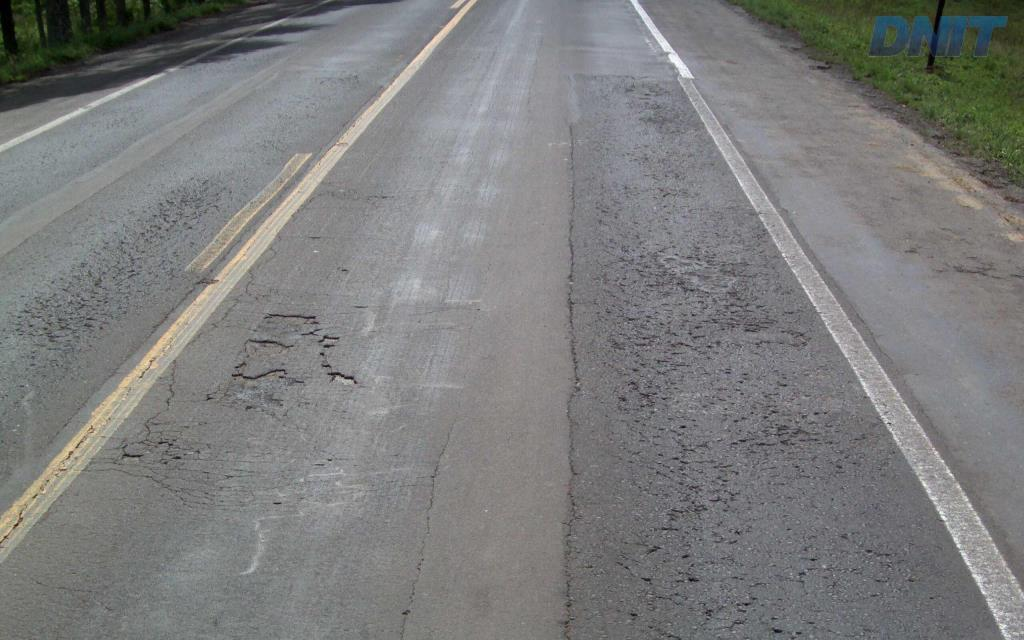crack: (649, 465, 708, 547), (745, 405, 820, 456), (130, 416, 200, 465), (630, 575, 688, 614), (862, 542, 914, 583), (558, 539, 577, 639), (644, 270, 709, 297), (624, 378, 671, 411)
pothole: (204, 334, 304, 409), (320, 368, 362, 389), (312, 330, 341, 347), (119, 450, 147, 464)
